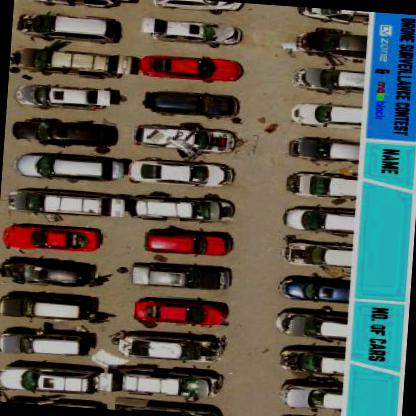car: (9, 118, 114, 153), (120, 364, 226, 398), (133, 192, 232, 226), (18, 46, 130, 76), (0, 365, 107, 396), (16, 80, 113, 114), (132, 157, 228, 189), (118, 332, 214, 364), (10, 190, 112, 220), (149, 88, 237, 121), (134, 295, 218, 329), (2, 257, 93, 288), (140, 124, 233, 154), (150, 51, 234, 84), (12, 152, 103, 182), (9, 224, 96, 253), (140, 260, 224, 290), (285, 168, 356, 203), (284, 203, 356, 237), (144, 228, 225, 258), (147, 17, 230, 46), (280, 272, 352, 305), (277, 308, 349, 341), (0, 291, 81, 320), (294, 27, 368, 58), (290, 133, 358, 165), (28, 12, 105, 40), (278, 345, 347, 375), (298, 63, 362, 94), (297, 100, 361, 130), (282, 239, 350, 267), (281, 382, 343, 412), (3, 332, 72, 357), (7, 370, 75, 394), (156, 0, 244, 16), (297, 7, 365, 24)
